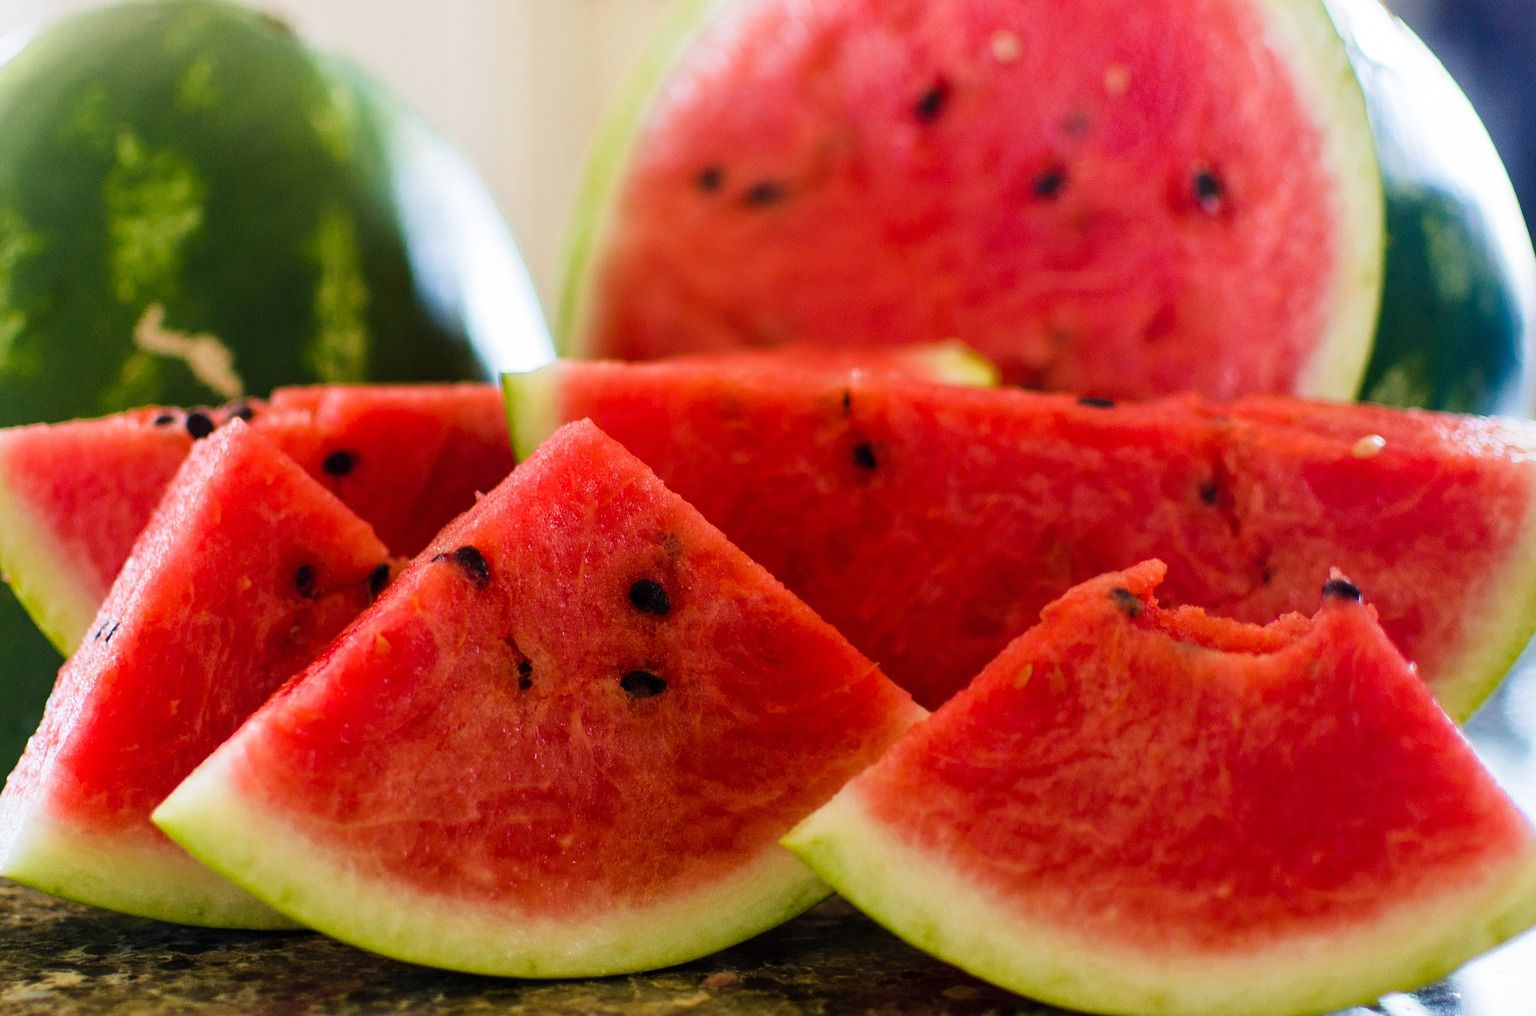Semangka: (234, 444, 900, 983), (745, 566, 1519, 1007), (26, 414, 371, 823)
